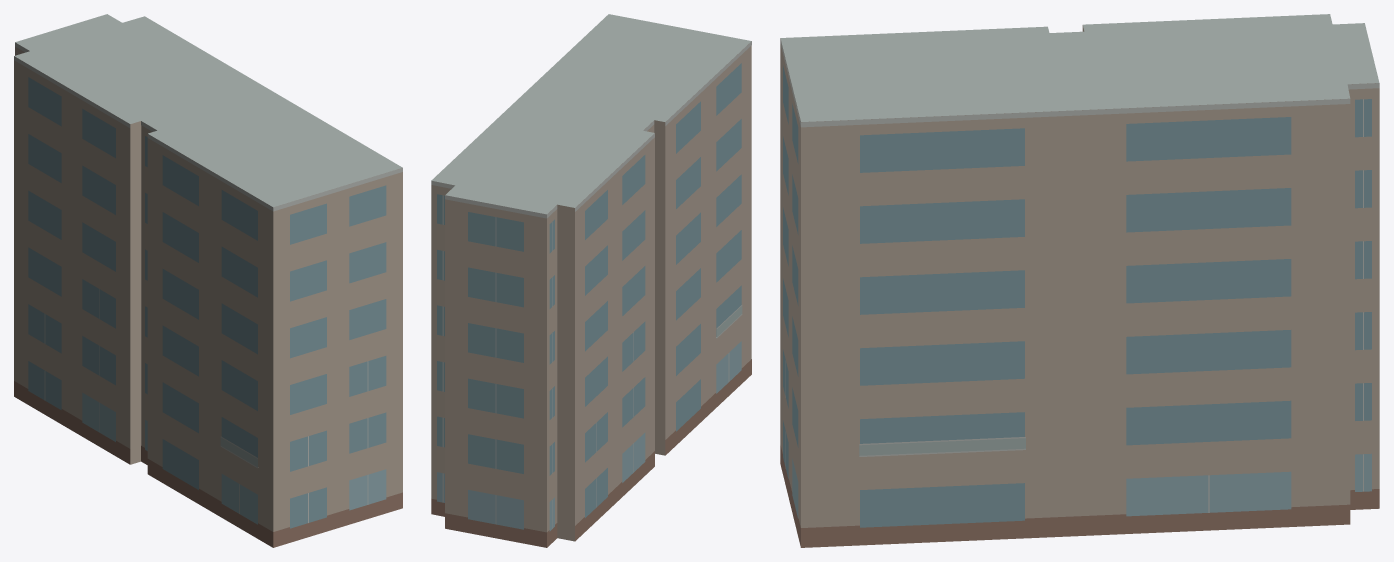
The model's file is survey-upis-32637479.glb.
3 views of the same model, side by side, from view 1: azimuth 30°, elevation 25°; view 2: azimuth 150°, elevation 25°; view 3: azimuth 270°, elevation 25° (orthographic). The views are drawn at different scales.
Visible parts, largest first — view 1: survey-upis-32637479.tmp; view 2: survey-upis-32637479.tmp; view 3: survey-upis-32637479.tmp.
Part boxes in pixels (left/top/right/bottom): survey-upis-32637479.tmp: left=14, top=14, right=402, bottom=547; survey-upis-32637479.tmp: left=431, top=14, right=751, bottom=547; survey-upis-32637479.tmp: left=780, top=14, right=1379, bottom=547.
Size of the model in its own units: 10.74 by 19.7 by 25.13.
